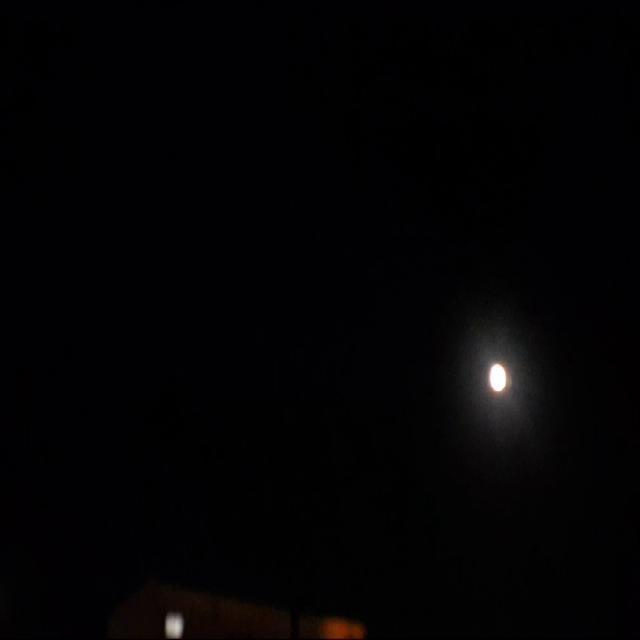moon: (486, 364, 509, 397)
